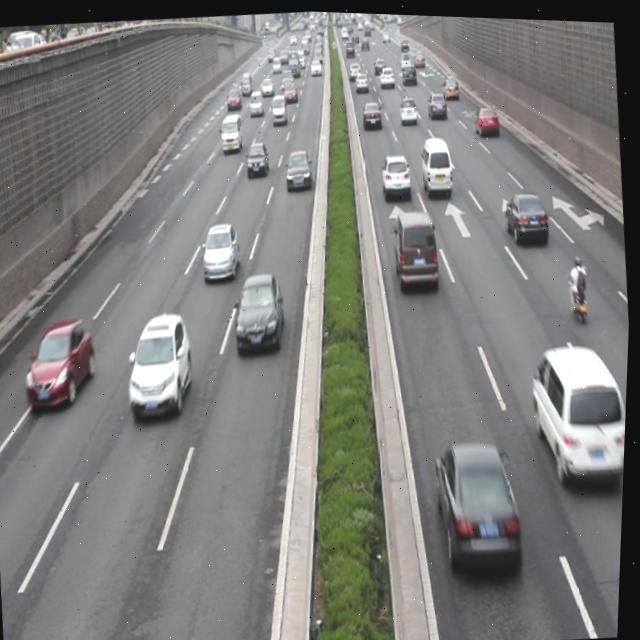car: (432, 433, 529, 575), (125, 310, 199, 419), (23, 315, 102, 410), (231, 268, 288, 350), (502, 183, 551, 242), (201, 219, 242, 280), (380, 148, 413, 192), (282, 143, 313, 187), (474, 98, 501, 134), (245, 138, 271, 175), (396, 93, 419, 124), (426, 84, 447, 115), (361, 97, 382, 127)
truck: (527, 334, 631, 483), (392, 204, 443, 288), (417, 131, 456, 194), (218, 110, 244, 151)
